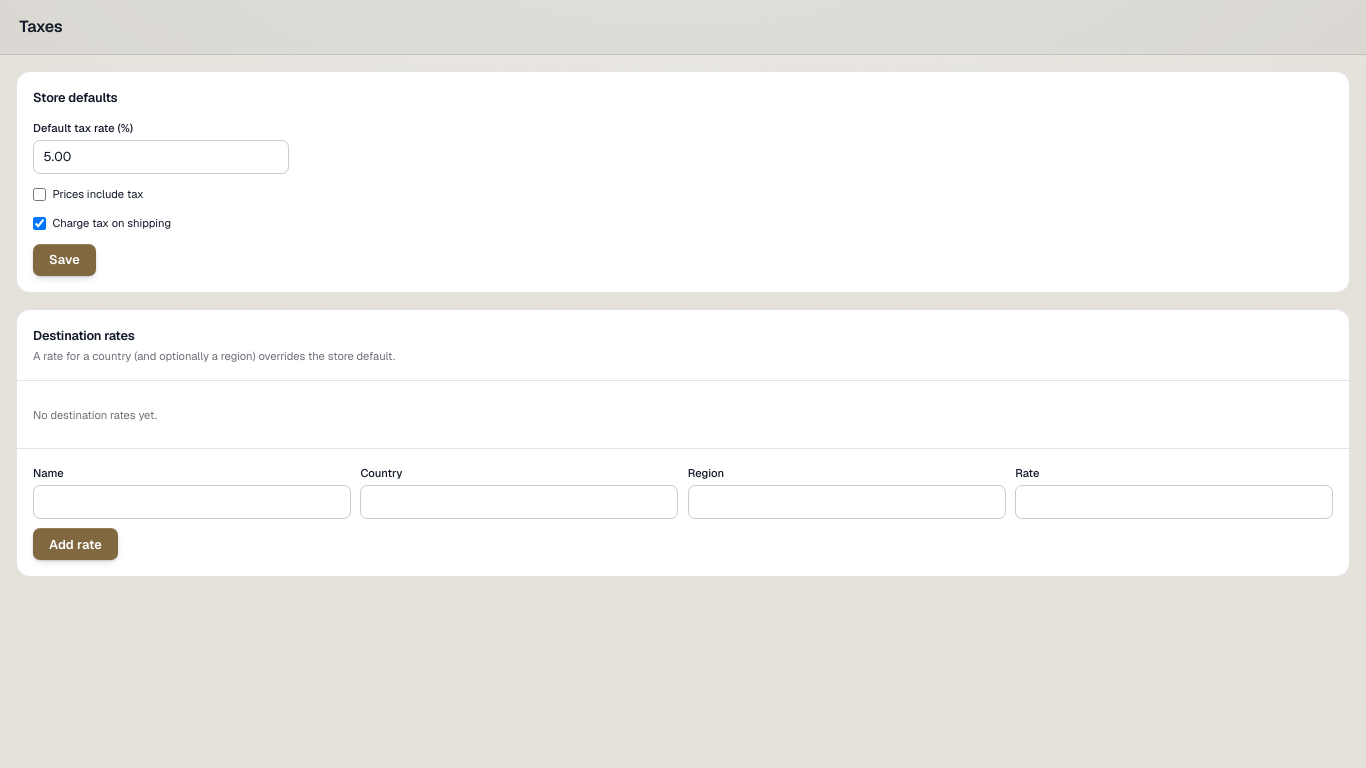
Test case: AdminTax › saves the defaults to the store
The image size is (1366, 768).
Check: the text "No destination rates yet." is shown, box [33, 408, 157, 422]
Replace the text in the field labelled "Default tax rate (%)" with "8" at (161, 157), box [33, 140, 289, 174]
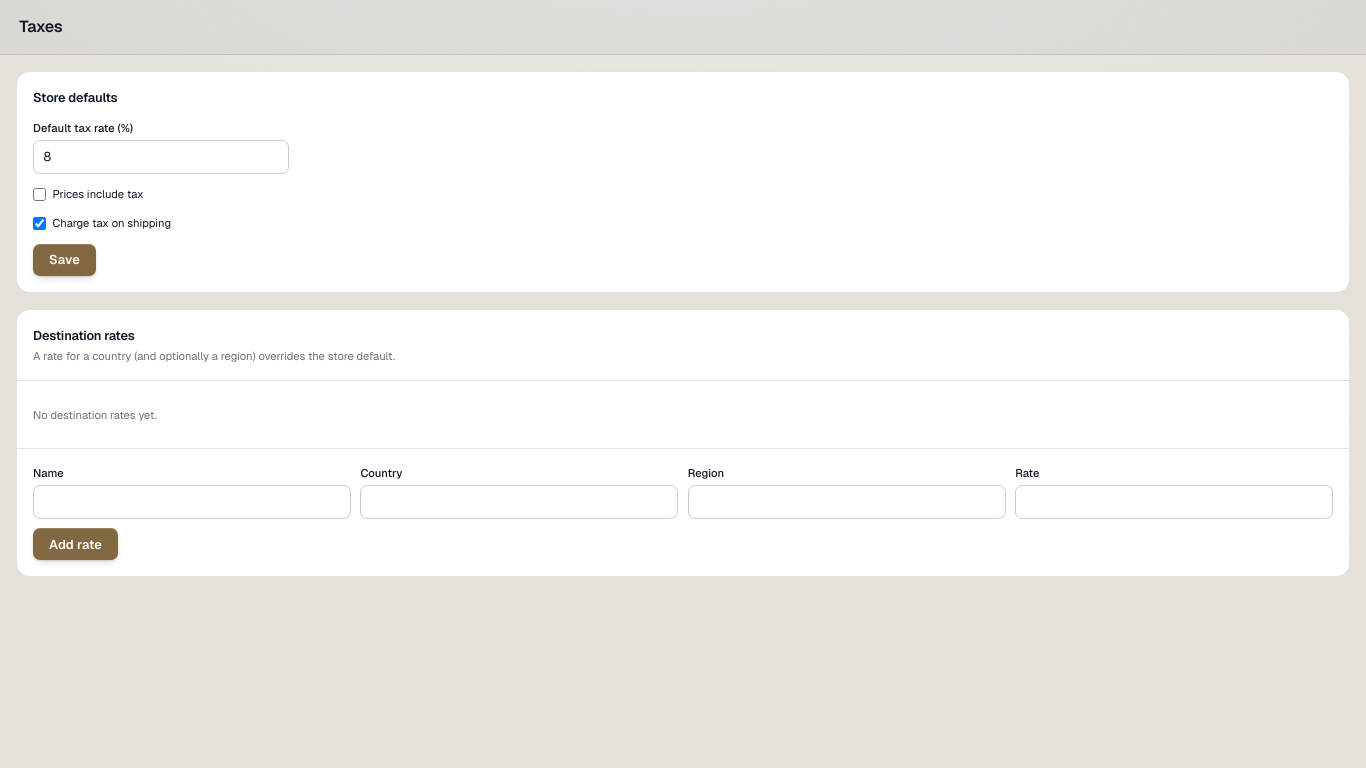
Click the button "Save" at (64, 260), box [33, 244, 96, 276]
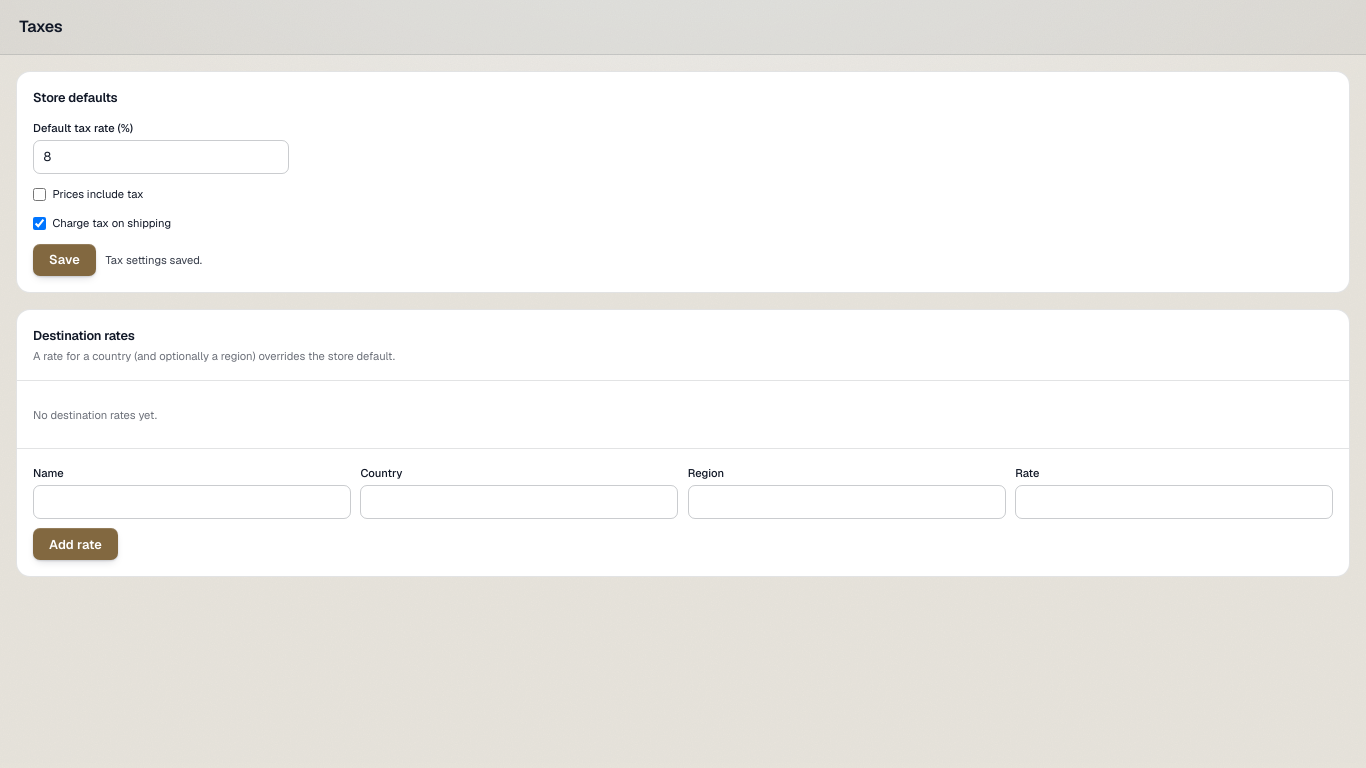
Check: the text "Tax settings saved." is shown, box [105, 252, 202, 268]
